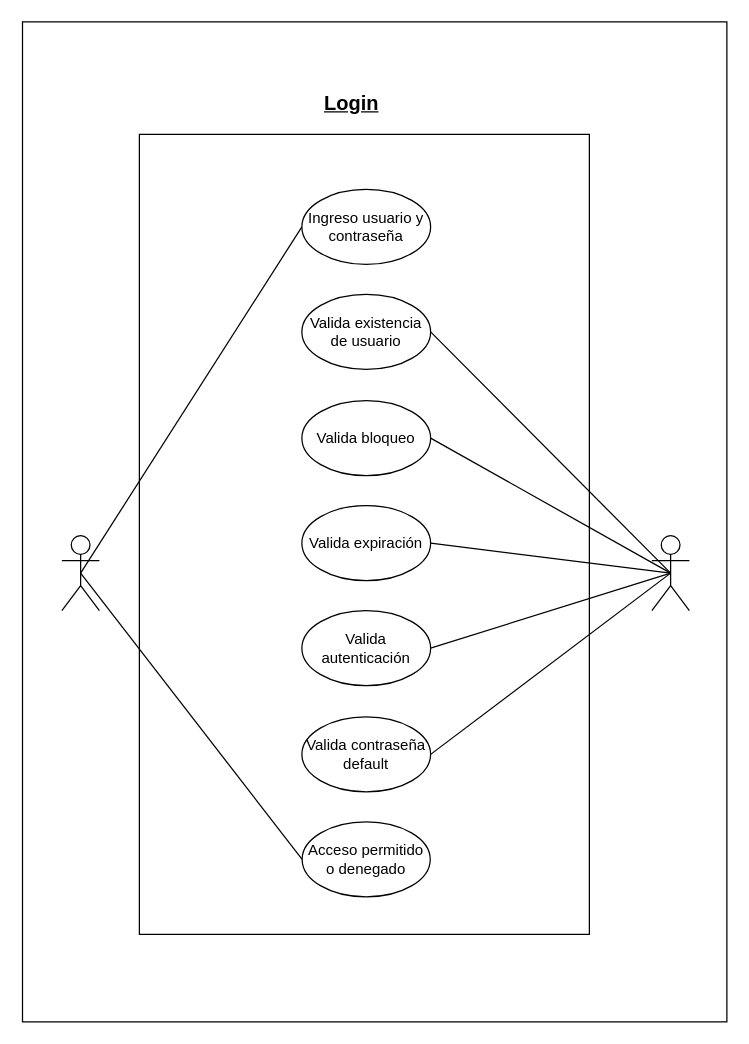
Image size: 749x1044. Some labels were removed from this diagram. The box of each missing label's shape, as (x1, y1, x2, y2) in pixels:
Sistema/BD: (651, 534, 689, 611)
Usuario: (61, 534, 99, 611)
